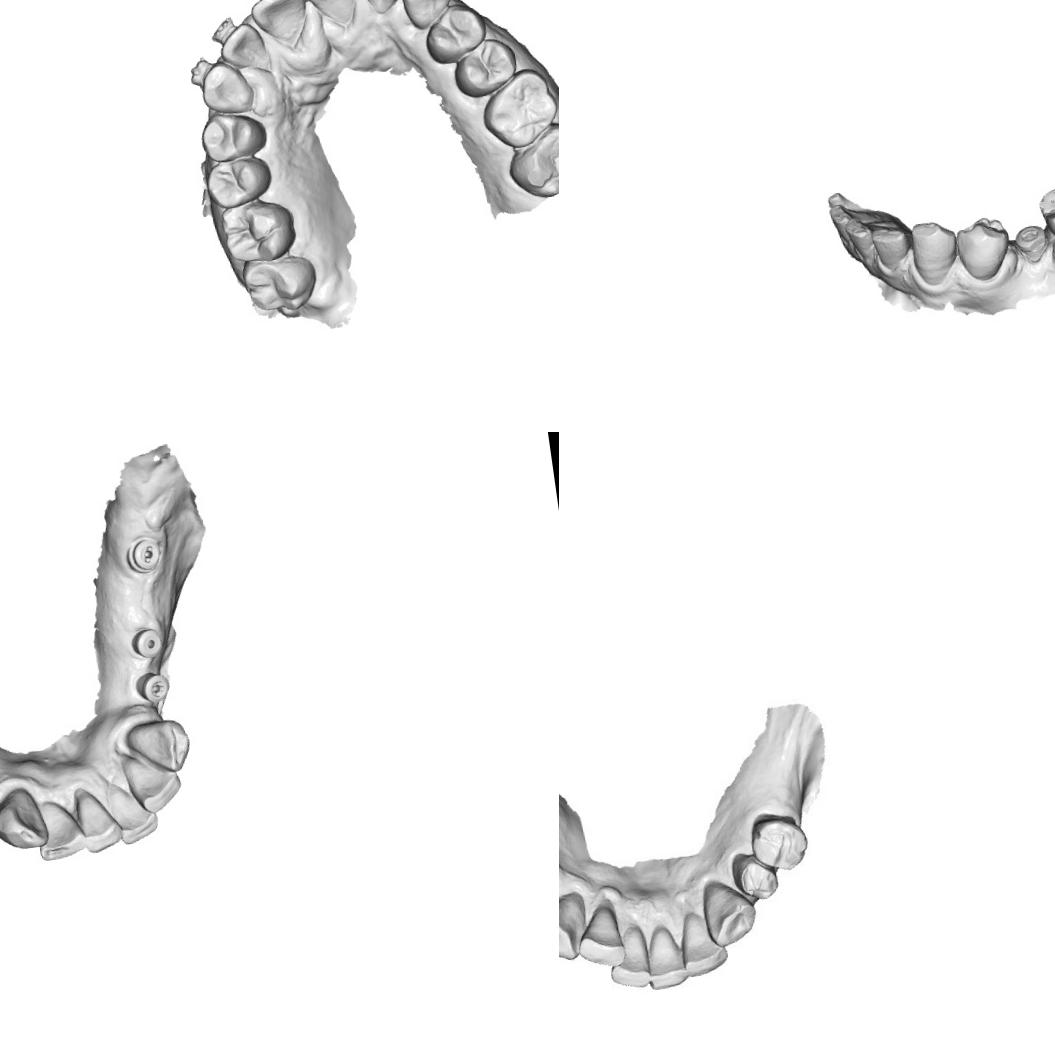canine: (698, 877, 763, 951), (121, 714, 193, 779), (904, 215, 965, 291), (0, 782, 52, 856), (196, 57, 257, 118), (559, 891, 596, 971), (397, 0, 456, 33)
implant: (125, 617, 176, 667)
implant_minus: (125, 530, 173, 580), (1009, 216, 1052, 269)
implant_plus: (132, 666, 178, 711)
incisor: (116, 744, 186, 818), (102, 774, 162, 850), (577, 902, 634, 980), (31, 795, 89, 863), (642, 922, 694, 994), (606, 921, 654, 996), (72, 786, 122, 856), (674, 910, 730, 970), (246, 0, 311, 45), (216, 19, 269, 74), (868, 220, 914, 275), (845, 214, 883, 276), (828, 198, 884, 235), (297, 0, 363, 31), (356, 0, 410, 18)
molar: (476, 63, 559, 153), (218, 196, 299, 268), (238, 250, 321, 318), (502, 118, 559, 203), (1032, 164, 1055, 257)
premolar: (742, 808, 819, 877), (449, 35, 522, 101), (420, 2, 492, 68), (951, 214, 1015, 286), (202, 153, 276, 211), (196, 107, 270, 164), (722, 845, 788, 908)
